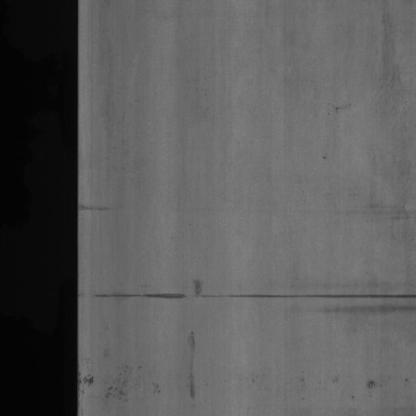crease: (93, 276, 412, 308), (78, 198, 121, 214)
